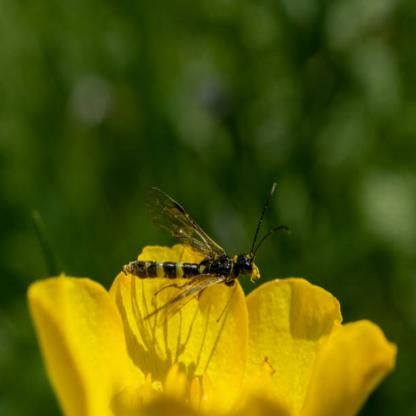sawfly: (118, 181, 293, 334)
